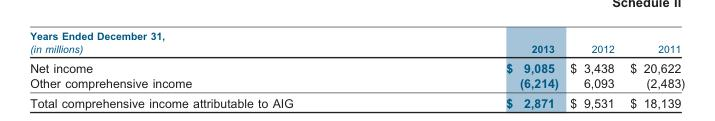table: (29, 29, 684, 89)
table column: (29, 29, 348, 89), (348, 29, 563, 89), (621, 29, 684, 89), (563, 29, 621, 89)
table column header: (29, 29, 684, 57)
table row: (29, 29, 684, 57), (29, 57, 684, 75), (29, 75, 684, 89)
